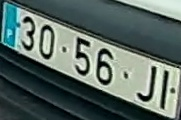0: (37, 22, 56, 60)
3: (19, 15, 36, 52)
5: (73, 35, 91, 77)
6: (94, 47, 114, 87)
I: (158, 68, 170, 111)
J: (134, 64, 157, 103)
